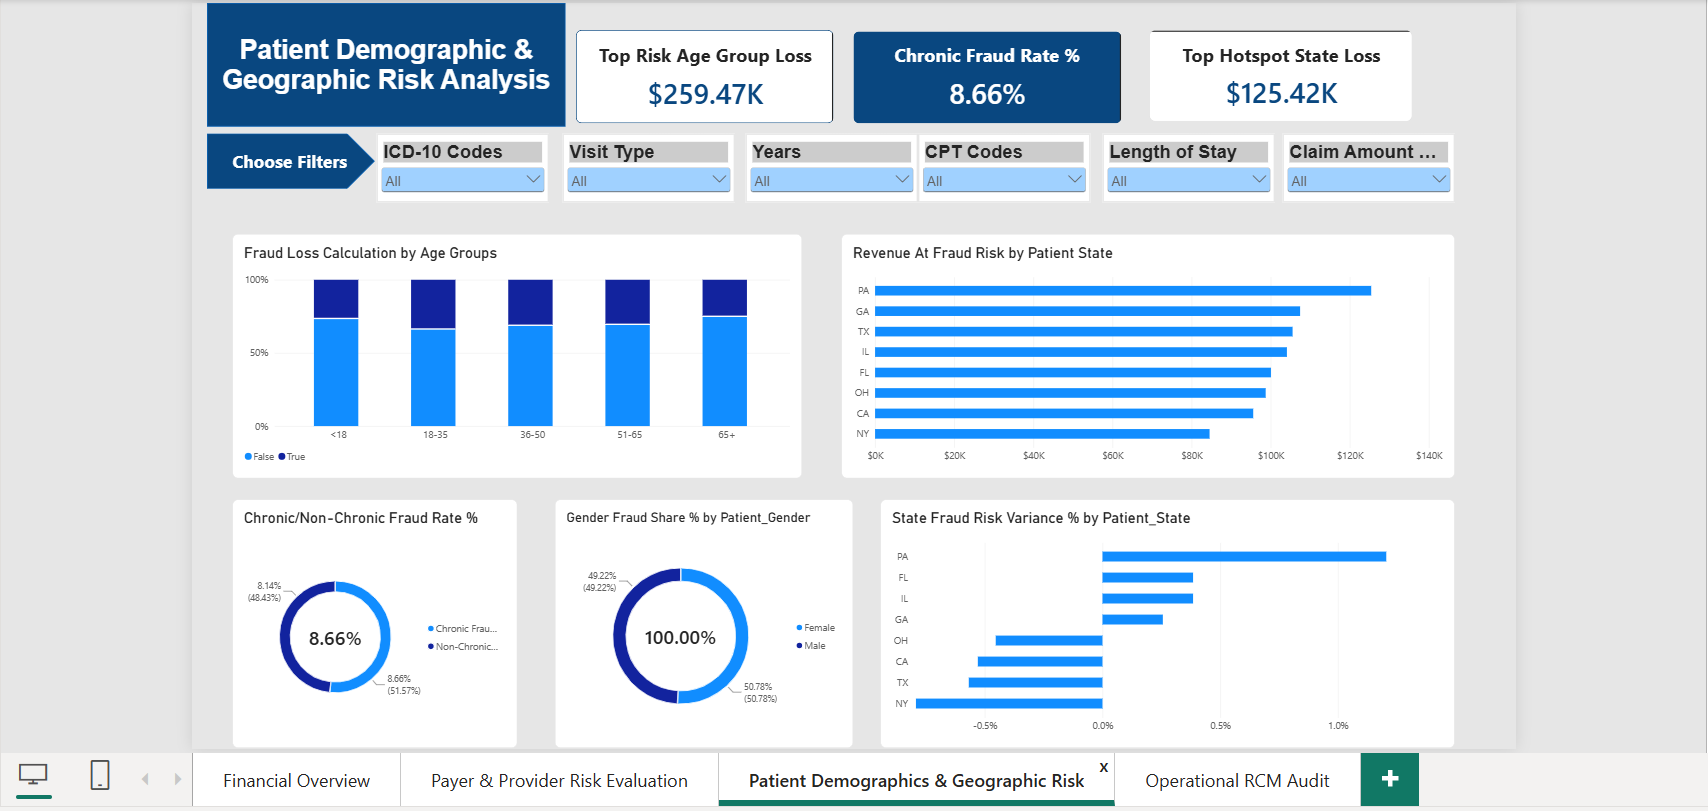

What the dashboard file says about the page in this screenshot:
{"tool":"powerbi","page":{"name":"Patient Demographics & Geographic Risk","canvas":[1920,1080],"ordinal":2},"visuals":[{"type":"cardVisual","fields":{"Data":["ROI Measures.Total Revenue At Fraud Risk"]},"box":[556.8,39.3,373.4,135.4],"z":0},{"type":"cardVisual","fields":{"Data":["ROI Measures.Chronic Fraud Rate %"]},"box":[958.5,41.5,388.6,133.2],"z":1000},{"type":"cardVisual","fields":{"Data":["ROI Measures.Total Revenue At Fraud Risk"]},"box":[1386.4,39.3,382.1,133.2],"z":2000},{"type":"hundredPercentStackedColumnChart","title":"Fraud Loss Calculation by Age Groups","fields":{"Category":["Fact_Table.Age_Group"],"Y":["ROI Measures.Age Group Fraud Loss"],"Series":["Fact_Table.Chronic_Condition_Flag"]},"box":[59,334.1,825.3,353.7],"z":3000},{"type":"barChart","title":"Revenue At Fraud Risk by Patient State","fields":{"Category":["Fact_Table.Patient_State"],"Y":["ROI Measures.Total Revenue At Fraud Risk"]},"box":[941,334.1,888.6,353.7],"z":4000},{"type":"donutChart","title":"Chronic/Non-Chronic Fraud Rate %","fields":{"Y":["ROI Measures.Chronic Fraud Rate %","ROI Measures.Non-Chronic Fraud Rate %"]},"box":[59,720.5,412.7,360.3],"z":5000},{"type":"donutChart","fields":{"Category":["Fact_Table.Patient_Gender"],"Y":["ROI Measures.Gender Fraud Share %"]},"box":[526.2,720.5,432.3,360.3],"z":6000},{"type":"clusteredBarChart","fields":{"Category":["Fact_Table.Patient_State"],"Y":["ROI Measures.State Fraud Risk Variance %"]},"box":[997.8,720.5,831.9,360.3],"z":7000},{"type":"shape","box":[21.8,0,519.6,179],"z":8000},{"type":"slicer","fields":{"Values":["Fact_Table.Procedure_Code"]},"box":[1052.4,190,250,100],"z":9000},{"type":"slicer","fields":{"Values":["Fact_Table.Patient_State"]},"box":[1318.7,190,250,100],"z":10000},{"type":"slicer","fields":{"Values":["Fact_Table.Claim_Amount_Bucket"]},"box":[1580.7,190,250,100],"z":11000},{"type":"shape","box":[21.4,189.8,243.2,80.2],"z":12000},{"type":"slicer","fields":{"Values":["Fact_Table.Submission_Year"]},"box":[801.9,189.8,250,100],"z":13000},{"type":"slicer","fields":{"Values":["Fact_Table.Visit_Type"]},"box":[537.2,189.8,250,100],"z":14000},{"type":"slicer","fields":{"Values":["Fact_Table.Diagnosis_Code"]},"box":[267.3,189.8,250,100],"z":15000}]}

Visuals, with their boxes on the page's 1920x1080 design canvas (x1, y1, x2, y2). These are canvas units, not pixel positions in the 1708x811 screenshot, which may show the page scaled, cropped or inside an application window:
cardVisual - ROI Measures.Total Revenue At Fraud Risk: [557,39,930,175]
cardVisual - ROI Measures.Chronic Fraud Rate %: [958,42,1347,175]
cardVisual - ROI Measures.Total Revenue At Fraud Risk: [1386,39,1768,172]
"Fraud Loss Calculation by Age Groups" hundredPercentStackedColumnChart: [59,334,884,688]
"Revenue At Fraud Risk by Patient State" barChart: [941,334,1830,688]
"Chronic/Non-Chronic Fraud Rate %" donutChart: [59,720,472,1081]
donutChart - Fact_Table.Patient_Gender x ROI Measures.Gender Fraud Share %: [526,720,958,1081]
clusteredBarChart - Fact_Table.Patient_State x ROI Measures.State Fraud Risk Variance %: [998,720,1830,1081]
shape: [22,0,541,179]
slicer - Fact_Table.Procedure_Code: [1052,190,1302,290]
slicer - Fact_Table.Patient_State: [1319,190,1569,290]
slicer - Fact_Table.Claim_Amount_Bucket: [1581,190,1831,290]
shape: [21,190,265,270]
slicer - Fact_Table.Submission_Year: [802,190,1052,290]
slicer - Fact_Table.Visit_Type: [537,190,787,290]
slicer - Fact_Table.Diagnosis_Code: [267,190,517,290]
